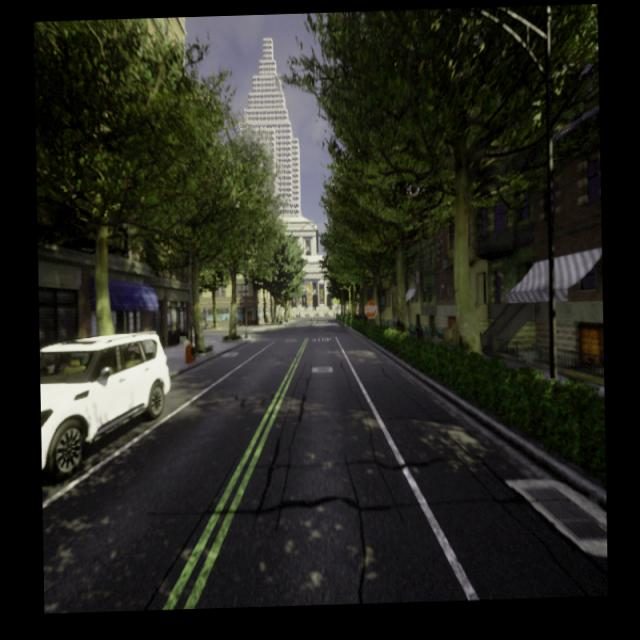stop sign: (362, 297, 379, 321)
